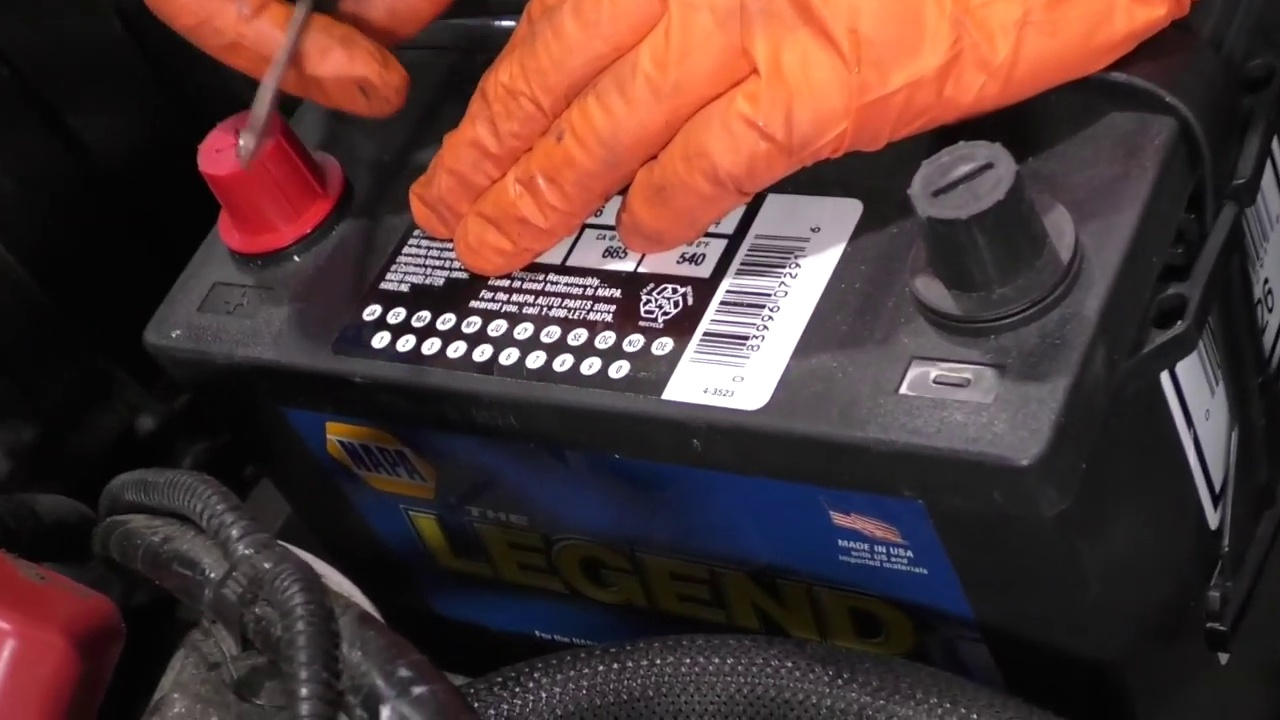battery: (172, 3, 1187, 450)
pos_disconnected: (164, 46, 359, 267)
pos_touched: (127, 5, 501, 317)
